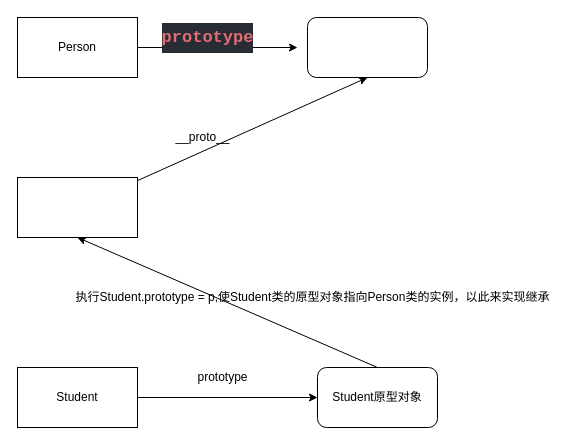
The diagram is 575 pixels wide and 445 high, and some of its shapes have lost their labels. The shapes that lost their labels are listed below. From the top down, each one's box as (x1, y1, x2, y2) in pixels, then its label:
(306, 16, 428, 78): Person类的原型对象
(16, 176, 138, 238): const p = new Person()
